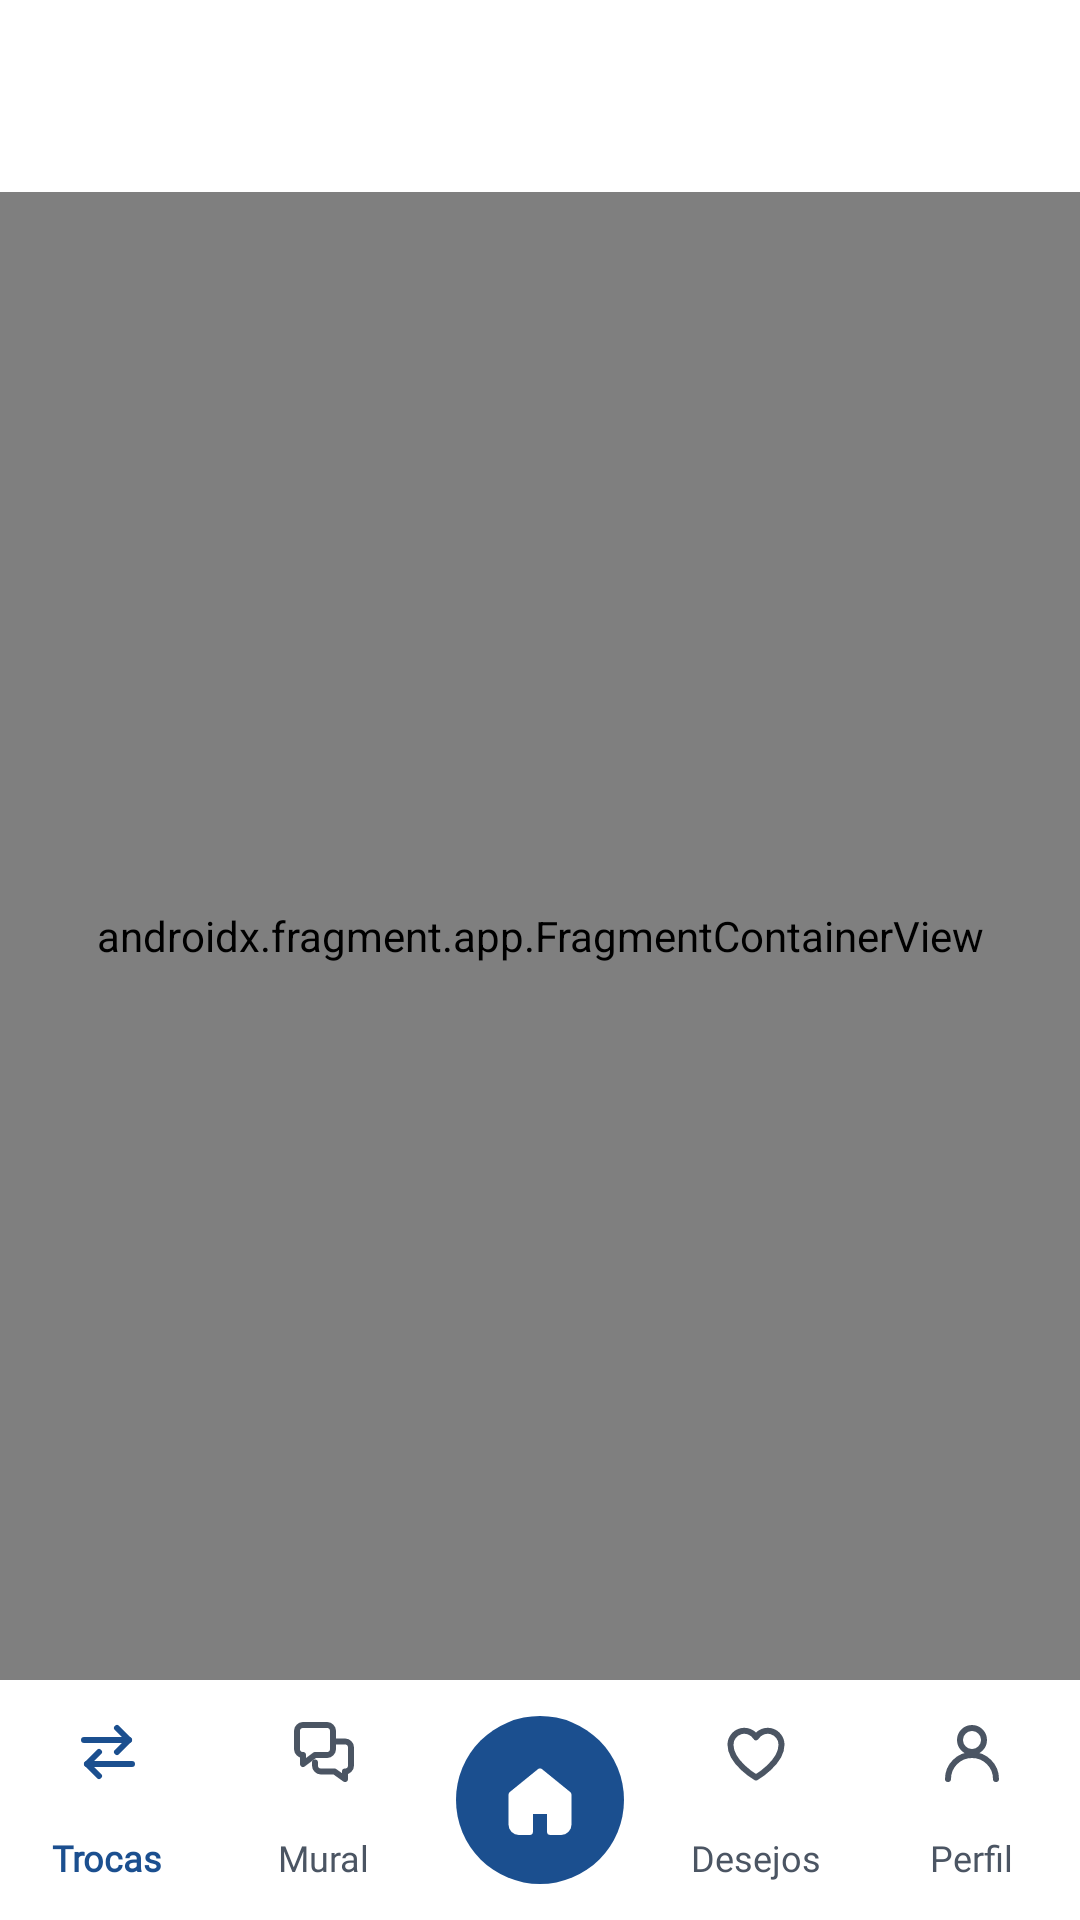

Screen size 1080*1920. Icon name, then its center in pixels as point (x, y):
Início: point (540, 1800)
